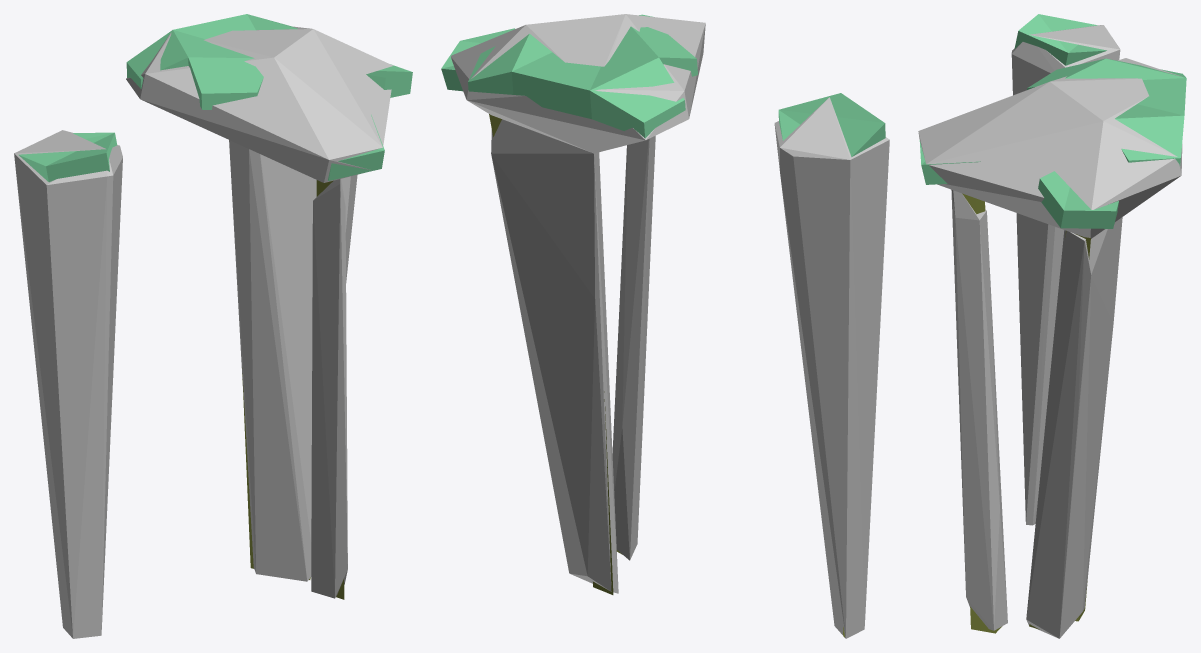
File: SM_Env_Flowers_03.fbx
The picture shows the model from 3 angles, left to right: view 1: azimuth 30°, elevation 25°; view 2: azimuth 150°, elevation 25°; view 3: azimuth 270°, elevation 25°; orthographic projection. The views are drawn at different scales.
Visible parts, largest first — view 1: SM_Env_Flowers_03_ConvexHulls, SM_Env_Flowers_03; view 2: SM_Env_Flowers_03_ConvexHulls, SM_Env_Flowers_03; view 3: SM_Env_Flowers_03_ConvexHulls, SM_Env_Flowers_03.
Part boxes in pixels (<box>): SM_Env_Flowers_03_ConvexHulls: <box>14,26,393,638</box>; SM_Env_Flowers_03: <box>18,14,412,599</box>; SM_Env_Flowers_03_ConvexHulls: <box>451,14,889,638</box>; SM_Env_Flowers_03: <box>441,14,885,637</box>; SM_Env_Flowers_03_ConvexHulls: <box>918,25,1182,638</box>; SM_Env_Flowers_03: <box>919,14,1186,633</box>.
Size of the model in its own units: 57.27 by 34.24 by 75.39.
Materials: 2 (1 with a texture image).
